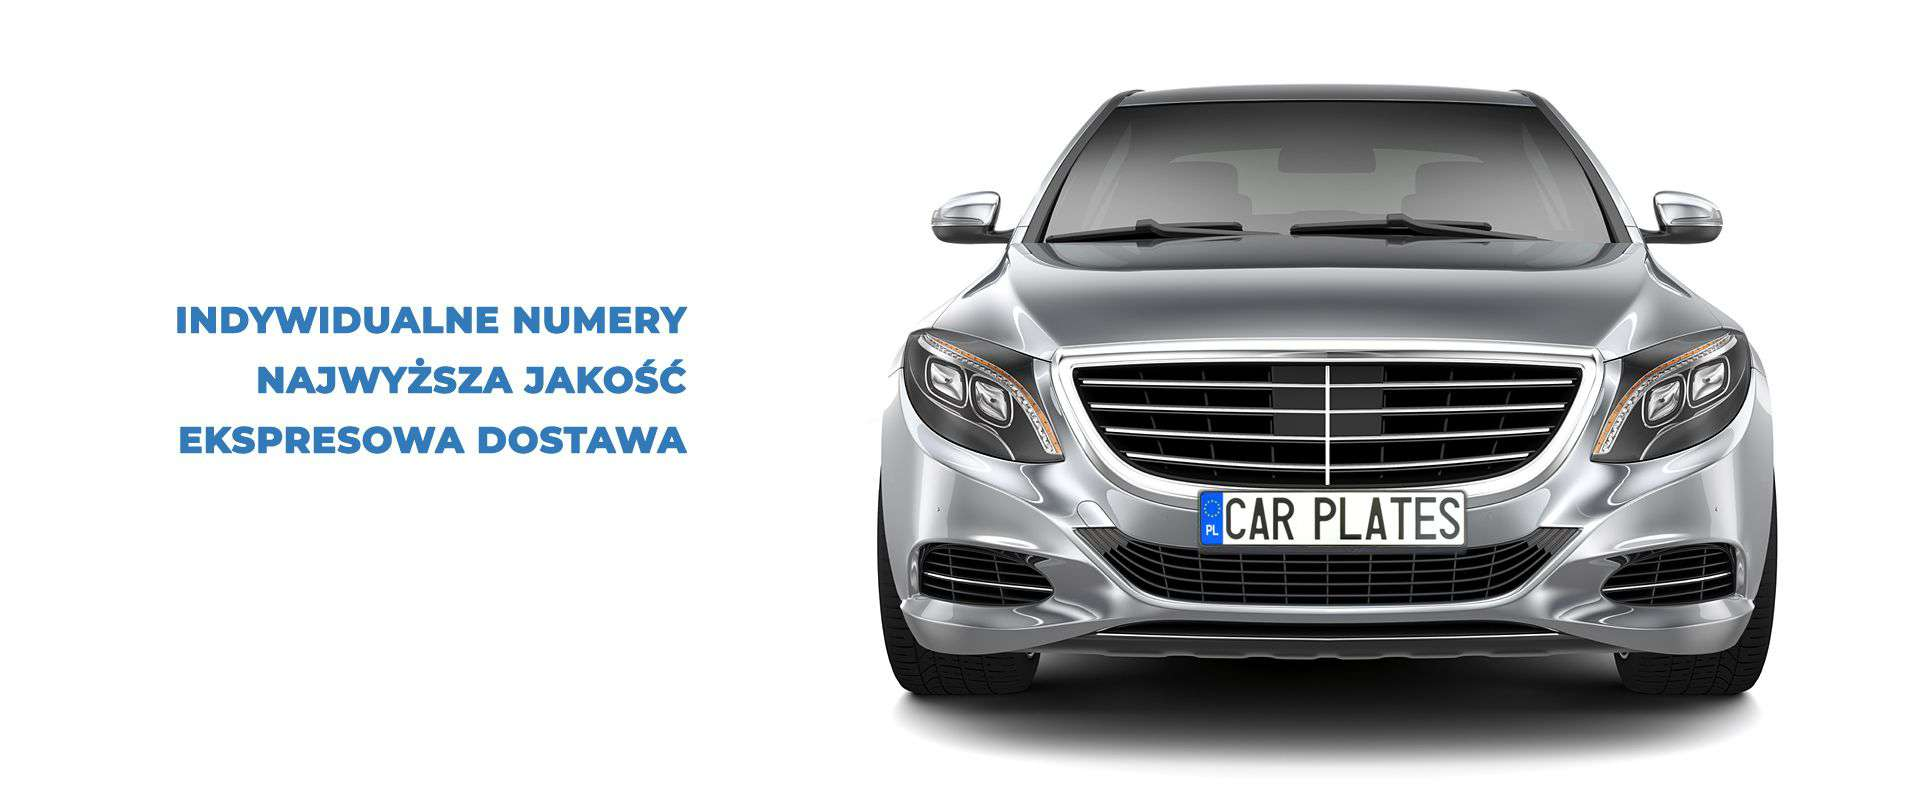number_plate: (1199, 491, 1471, 554)
